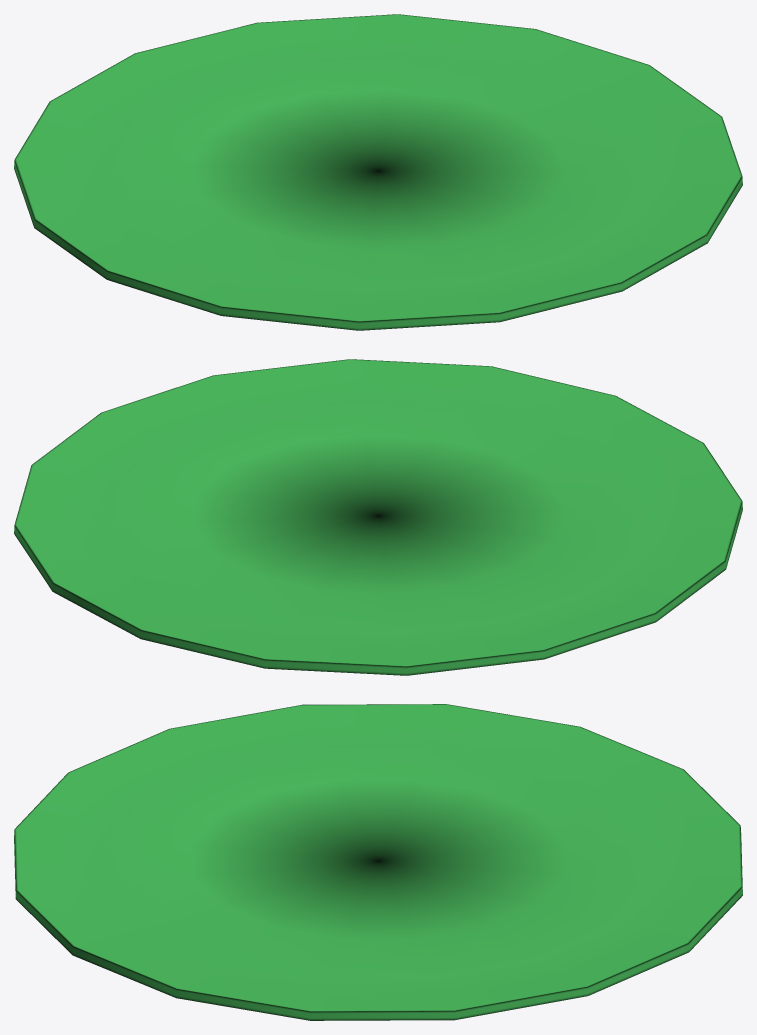
Rendered from Plate2.fbx.
3 renders of one model, top to bottom at view 1: azimuth 30°, elevation 25°; view 2: azimuth 150°, elevation 25°; view 3: azimuth 270°, elevation 25°, orthographic.
Visible parts, largest first — view 1: Plate_02; view 2: Plate_02; view 3: Plate_02.
Part boxes in pixels (x1,y1,x2,y2): Plate_02: [14, 14, 742, 330]; Plate_02: [14, 359, 742, 675]; Plate_02: [14, 704, 742, 1020].
Size of the model in its own units: 500 by 13.27 by 500.
